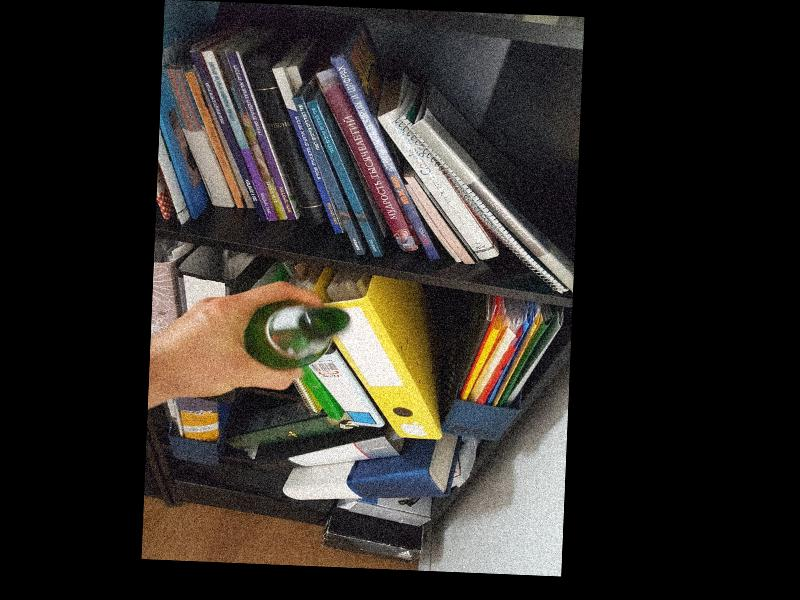Beer: (242, 299, 349, 372)
